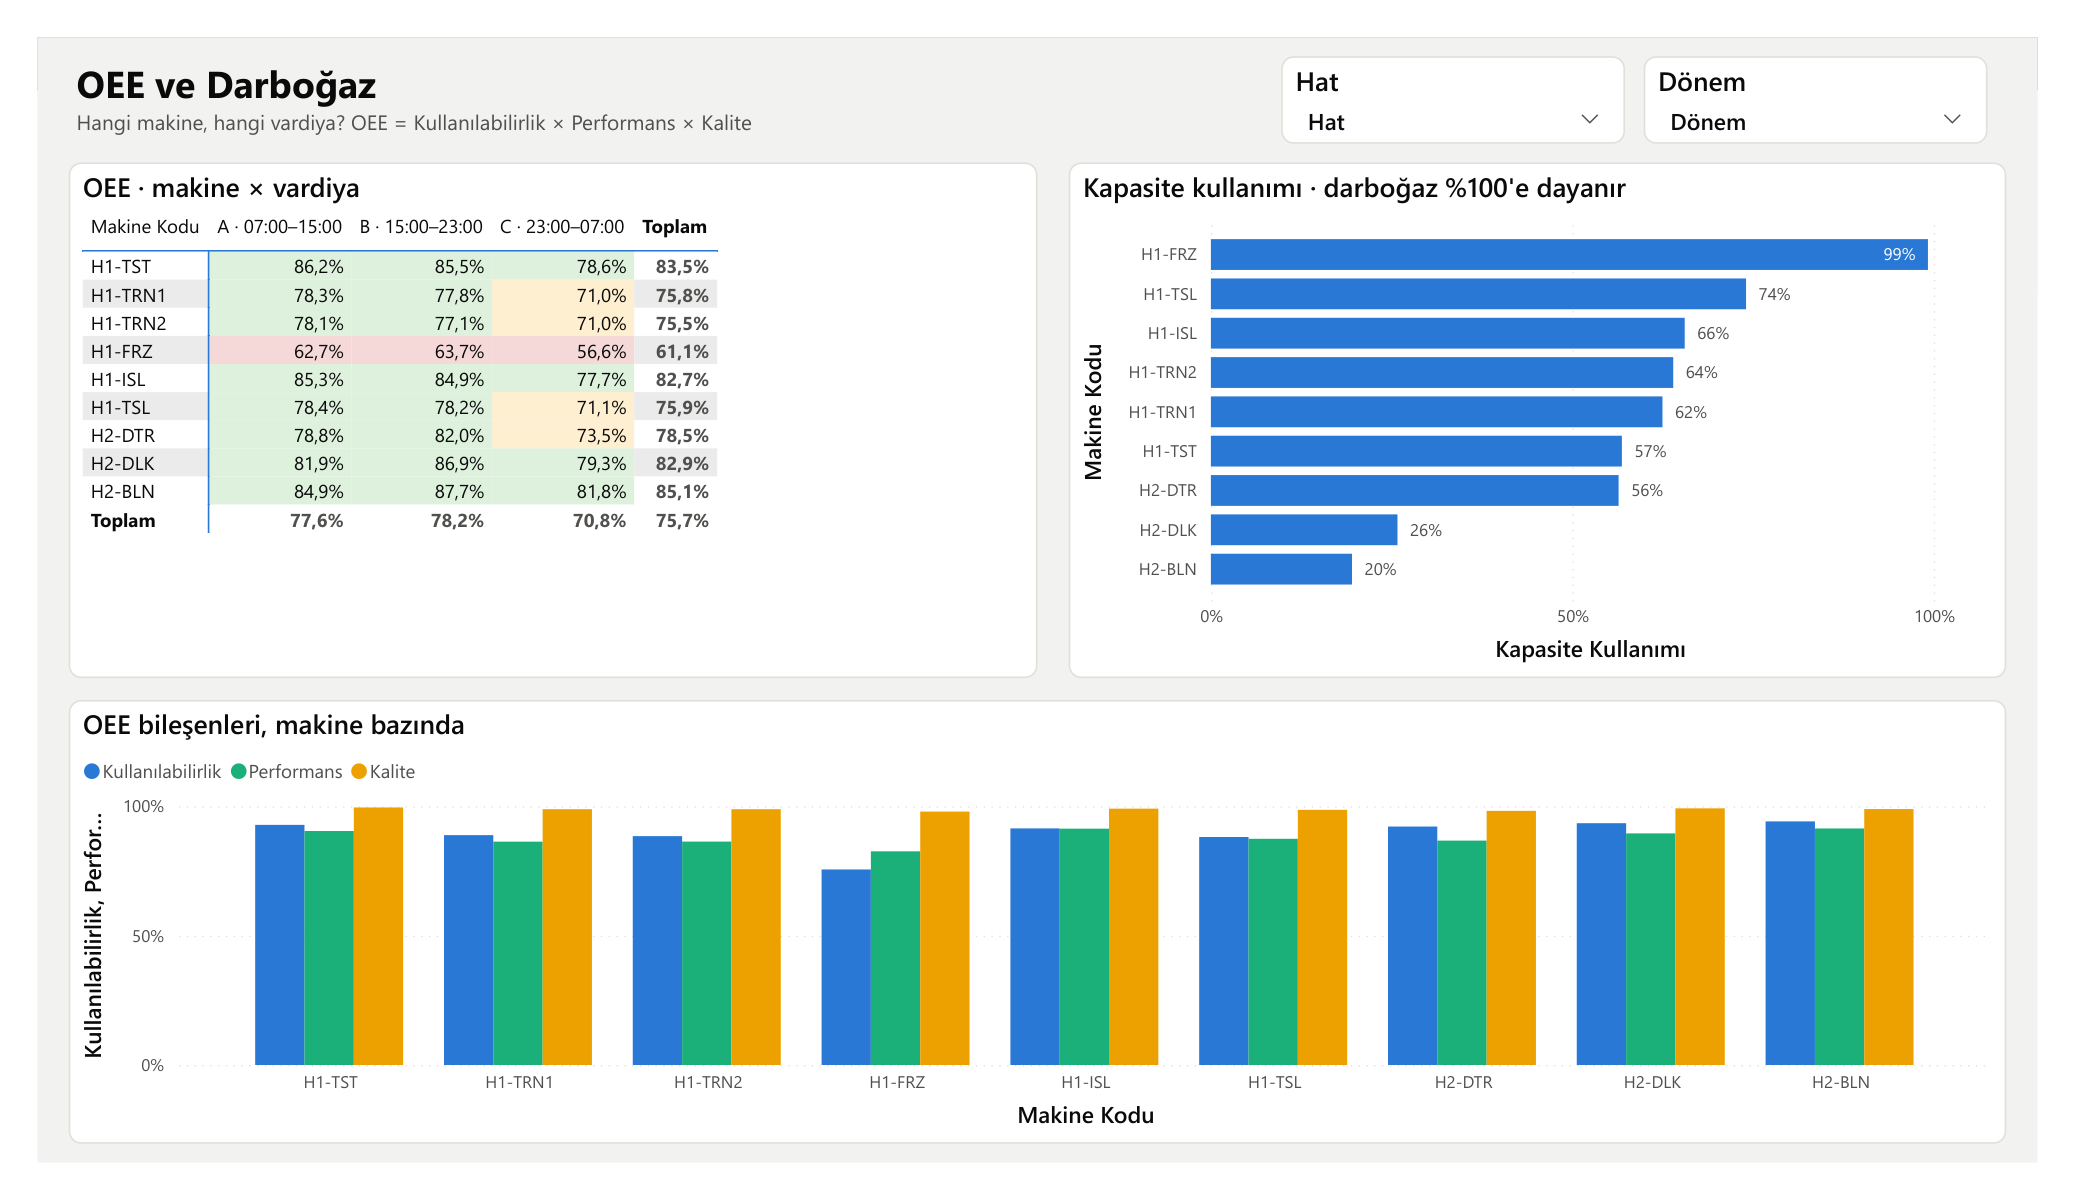

This screenshot's page, from the dashboard's own definition file:
{"tool":"powerbi","page":{"name":"OEE ve Darboğaz","canvas":[1280,720],"ordinal":1},"visuals":[{"type":"textbox","box":[20,8,760,60],"z":0},{"type":"slicer","title":"Hat","fields":{"Values":["DimUrun.Hat"]},"box":[796,12,220,56],"z":1000},{"type":"slicer","title":"Dönem","fields":{"Values":["DimTarih.Dönem"]},"box":[1028,12,220,56],"z":2000},{"type":"pivotTable","title":"OEE · makine × vardiya","fields":{"Columns":["DimVardiya.Vardiya"],"Rows":["DimMakine.Makine Kodu"],"Values":["_Ölçüler.OEE"]},"box":[20,80,620,330],"z":3000},{"type":"clusteredBarChart","title":"Kapasite kullanımı · darboğaz %100''e dayanır","fields":{"Category":["DimMakine.Makine Kodu"],"Y":["_Ölçüler.Kapasite Kullanımı"]},"box":[660,80,600,330],"z":4000},{"type":"clusteredColumnChart","title":"OEE bileşenleri, makine bazında","fields":{"Category":["DimMakine.Makine Kodu"],"Y":["_Ölçüler.Kullanılabilirlik","_Ölçüler.Performans","_Ölçüler.Kalite"]},"box":[20,424,1240,284],"z":5000}]}

Visuals, with their boxes on the page's 1280x720 design canvas (x1, y1, x2, y2). These are canvas units, not pixel positions in the 2075x1200 screenshot, which may show the page scaled, cropped or inside an application window:
textbox: {"x1": 20, "y1": 8, "x2": 780, "y2": 68}
"Hat" slicer: {"x1": 796, "y1": 12, "x2": 1016, "y2": 68}
"Dönem" slicer: {"x1": 1028, "y1": 12, "x2": 1248, "y2": 68}
"OEE · makine × vardiya" pivotTable: {"x1": 20, "y1": 80, "x2": 640, "y2": 410}
"Kapasite kullanımı · darboğaz %100''e dayanır" clusteredBarChart: {"x1": 660, "y1": 80, "x2": 1260, "y2": 410}
"OEE bileşenleri, makine bazında" clusteredColumnChart: {"x1": 20, "y1": 424, "x2": 1260, "y2": 708}
